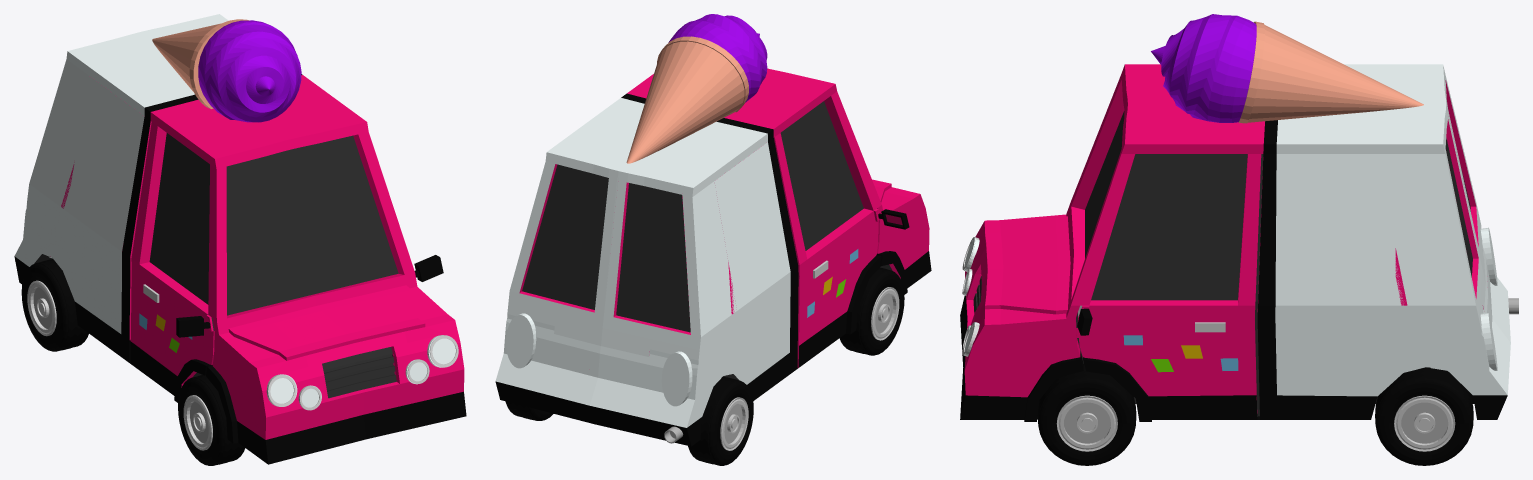
File: CR-BUS-5A.fbx
The picture shows the model from 3 angles, left to right: view 1: azimuth 30°, elevation 25°; view 2: azimuth 150°, elevation 25°; view 3: azimuth 270°, elevation 25°; orthographic projection. The views are drawn at different scales.
Parts seen in each view (by area): view 1: BODY, ZiCECREAM, WHEEL.004, WHEEL.001; view 2: BODY, ZiCECREAM, WHEEL.004, WHEEL.001, WHEEL.002; view 3: BODY, ZiCECREAM, WHEEL.002, WHEEL.003.
Boxes of the visible parts, x1,y1,x2,y2 form: BODY: (14,14,466,464); ZiCECREAM: (152,19,301,122); WHEEL.004: (21,259,88,351); WHEEL.001: (178,375,245,465); BODY: (495,68,931,446); ZiCECREAM: (626,14,767,163); WHEEL.004: (688,376,753,465); WHEEL.001: (839,267,904,355); WHEEL.002: (505,401,553,420); BODY: (960,64,1510,421); ZiCECREAM: (1151,14,1423,123); WHEEL.002: (1375,367,1473,465); WHEEL.003: (1037,371,1136,465).
Bounding box in the file's own units: 131 × 172 × 221.
